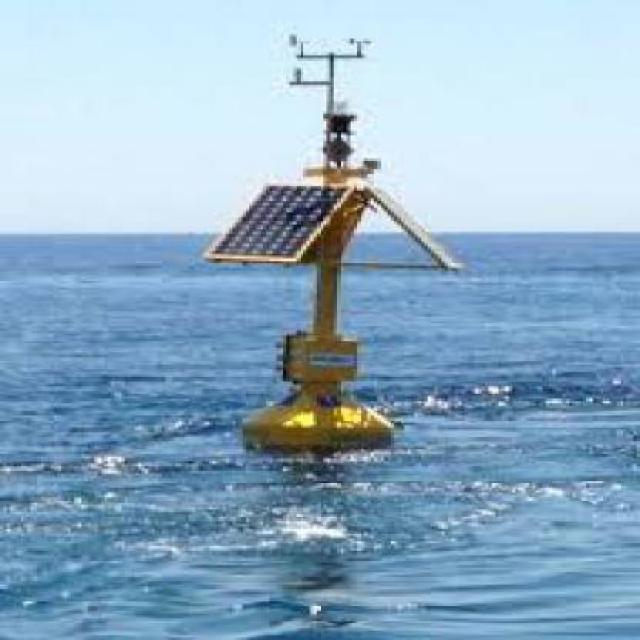buoy: (183, 27, 480, 463)
